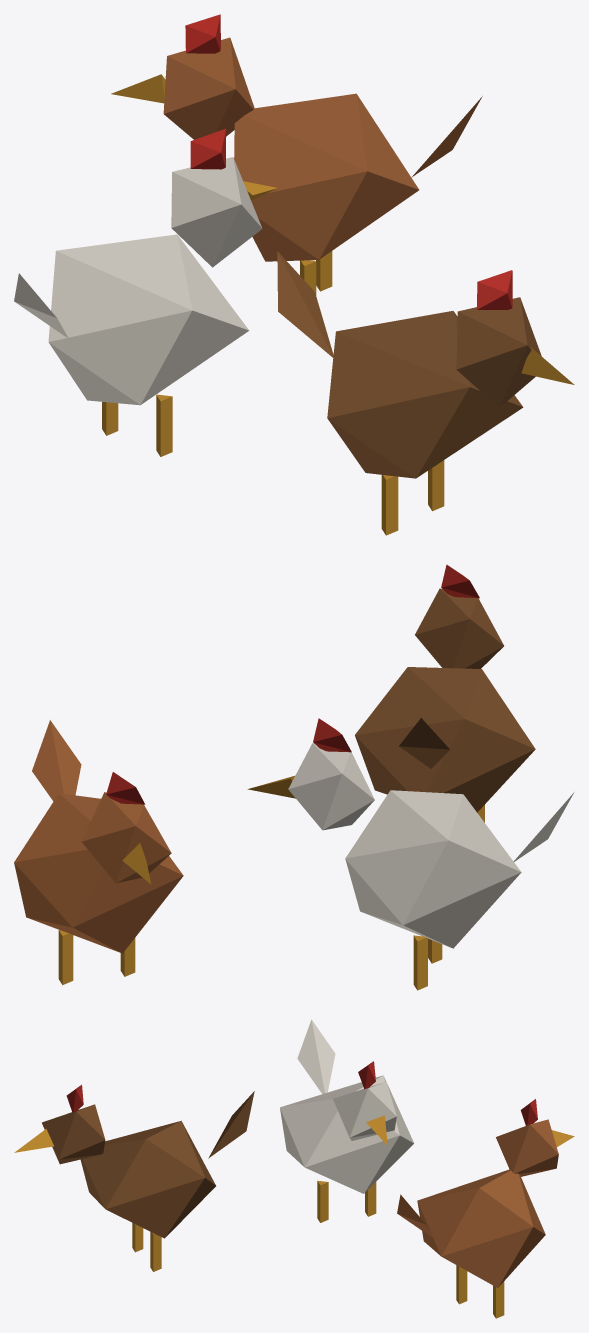
Rendered from hens.glb.
3 views of the same model, one above another, from view 1: azimuth 30°, elevation 25°; view 2: azimuth 150°, elevation 25°; view 3: azimuth 270°, elevation 25° (orthographic). The views are drawn at different scales.
Visible parts, largest first — view 1: hen0_m, hen2_m, hen1_m; view 2: hen0_m, hen2_m, hen1_m; view 3: hen2_m, hen1_m, hen0_m.
Part boxes in pixels (x1=…): hen0_m: x1=14, y1=128, x2=277, y2=456; hen2_m: x1=277, y1=251, x2=574, y2=535; hen1_m: x1=111, y1=14, x2=482, y2=295; hen0_m: x1=247, y1=718, x2=574, y2=990; hen2_m: x1=355, y1=564, x2=535, y2=822; hen1_m: x1=14, y1=720, x2=183, y2=985; hen2_m: x1=14, y1=1084, x2=254, y2=1271; hen1_m: x1=397, y1=1099, x2=574, y2=1318; hen0_m: x1=280, y1=1019, x2=413, y2=1222.
Bounding box in the file's own units: 0.2492 × 0.1237 × 0.3366.
